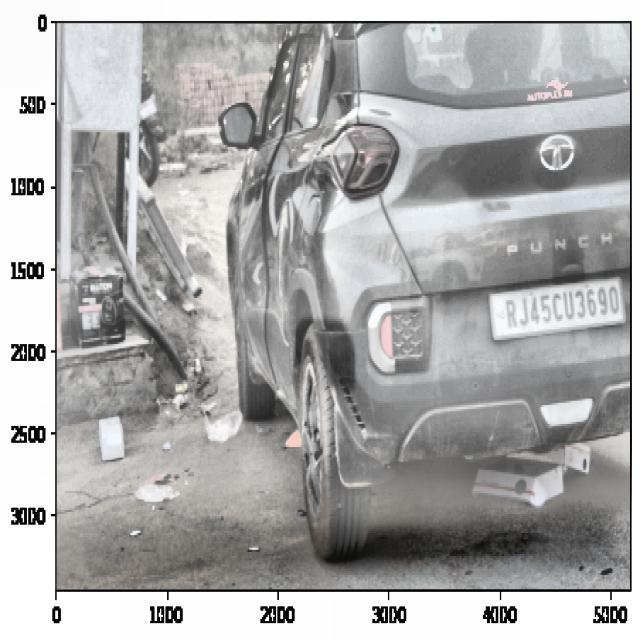license_plate: (499, 282, 621, 331)
